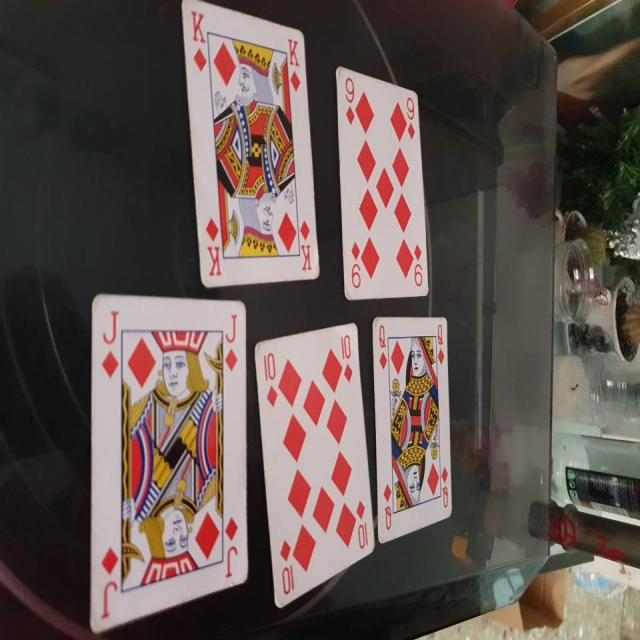10 Diamonds: (253, 321, 377, 609)
9 Diamonds: (334, 63, 430, 302)
J Diamonds: (88, 293, 251, 634)
K Diamonds: (180, 1, 321, 289)
Q Diamonds: (370, 311, 455, 544)
